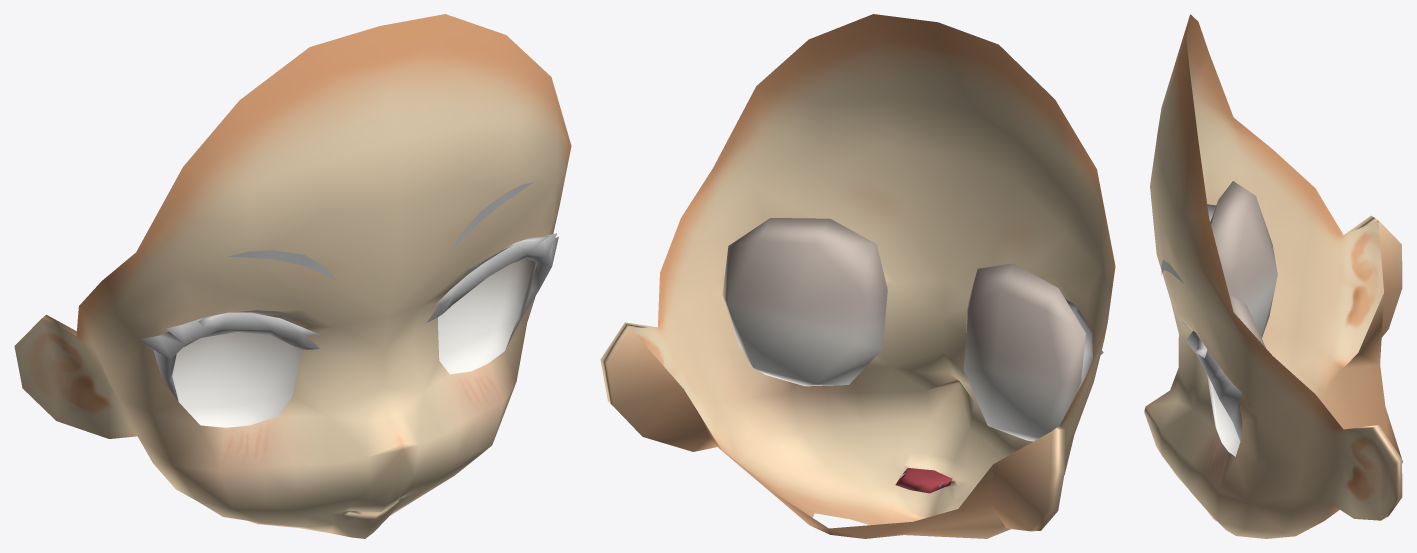
3 views of the same model, side by side, from view 1: azimuth 30°, elevation 25°; view 2: azimuth 150°, elevation 25°; view 3: azimuth 270°, elevation 25° (orthographic). The views are drawn at different scales.
Visible parts, largest first — view 1: Face_00; view 2: Face_00; view 3: Face_00.
Boxes of the visible parts, x1,y1,x2,y2 form: Face_00: (14, 14, 571, 538); Face_00: (600, 14, 1115, 538); Face_00: (1144, 14, 1402, 538).
Size of the model in its own units: 28.07 by 28.11 by 13.66.
